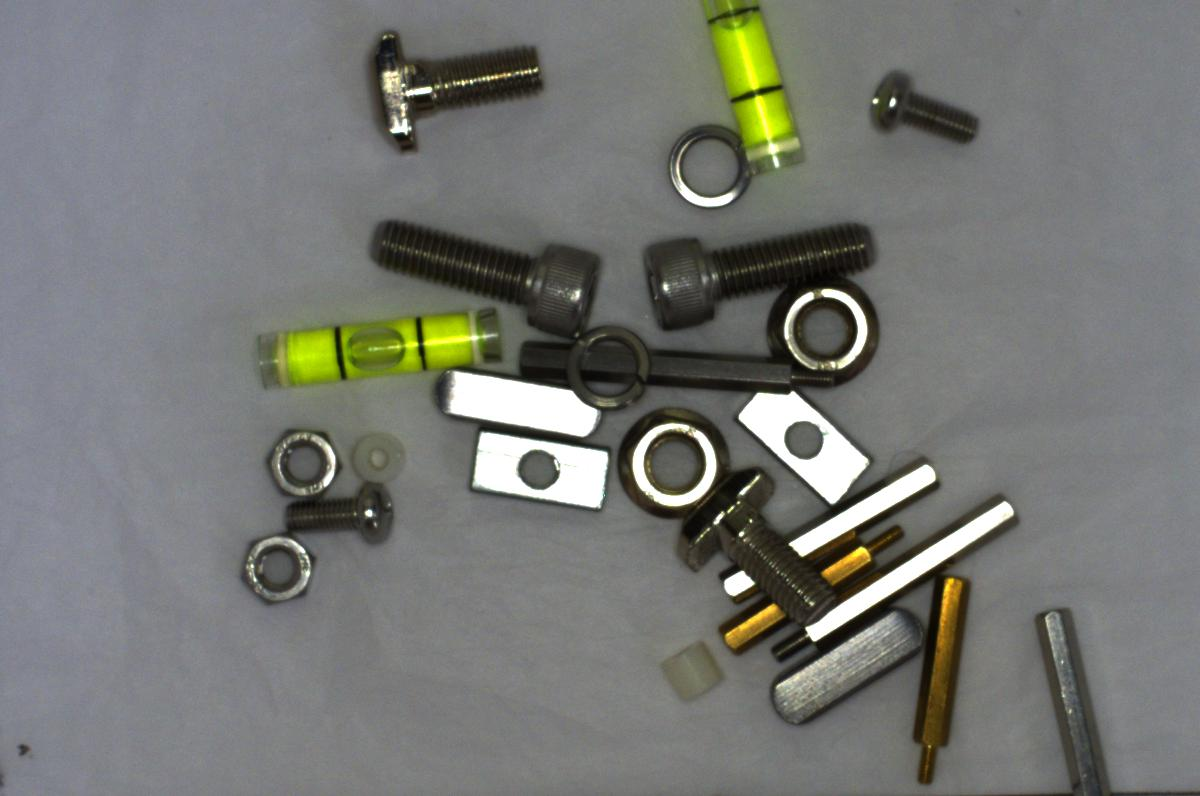Double hexagonal column: (711, 455, 948, 598), (1024, 595, 1128, 786)
Flange nut: (615, 406, 741, 526), (766, 273, 894, 389)
Hexagon nut: (250, 419, 343, 505), (232, 527, 324, 601)
Hexagon pillar: (712, 517, 914, 653), (903, 571, 971, 785)
Hexagon screw: (637, 214, 893, 331), (356, 213, 611, 330)
Hexagonal steel column: (770, 503, 1026, 664), (519, 331, 834, 396)
Horizontal bubble: (698, 3, 819, 180), (247, 304, 515, 382)
Keybar: (760, 604, 930, 719), (424, 353, 608, 439)
Plastic cushion pillar: (656, 636, 729, 703), (346, 424, 408, 482)
Rectangular nut: (739, 377, 870, 505), (464, 426, 614, 510)
Round head screw: (856, 64, 982, 150), (279, 478, 401, 548)
Spring washer: (558, 324, 669, 418), (661, 114, 760, 213)
T-shaped screw: (369, 15, 580, 153), (661, 468, 826, 627)
